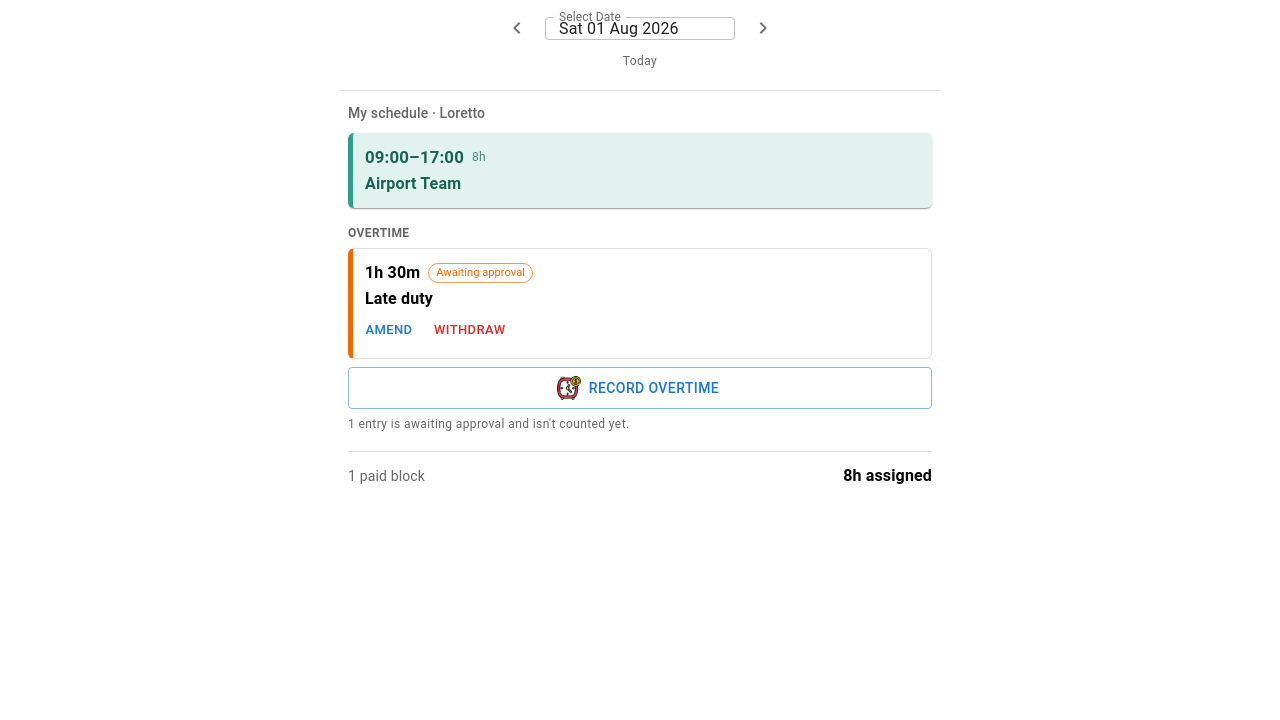
Test: amends an entry that is still awaiting approval
Expected: the text "Late duty" is shown, [365, 289, 433, 308]
Click the button "Amend".
click(389, 330)  # box [357, 315, 421, 346]
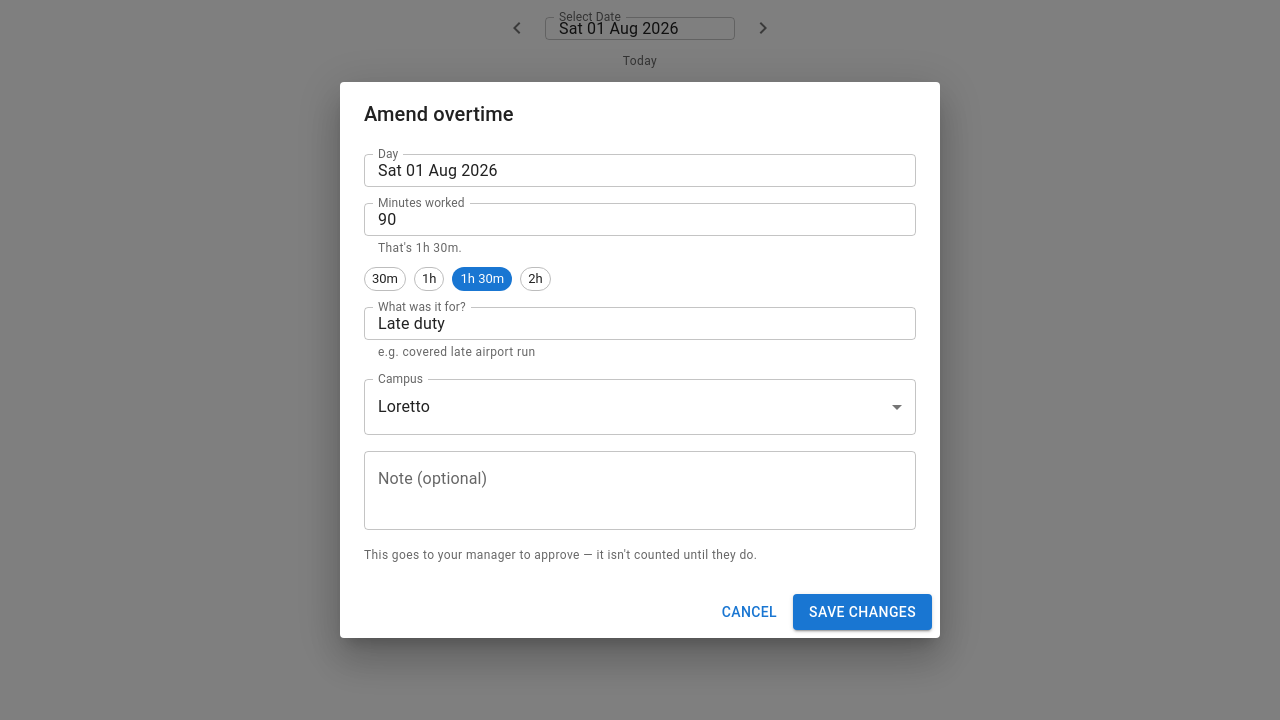
Expected: the heading "Amend overtime" is shown, [364, 102, 514, 126]
Expected: the number field labelled "Minutes worked" holds "90"
Clear the number field labelled "Minutes worked" at [640, 219], box [364, 203, 916, 236]
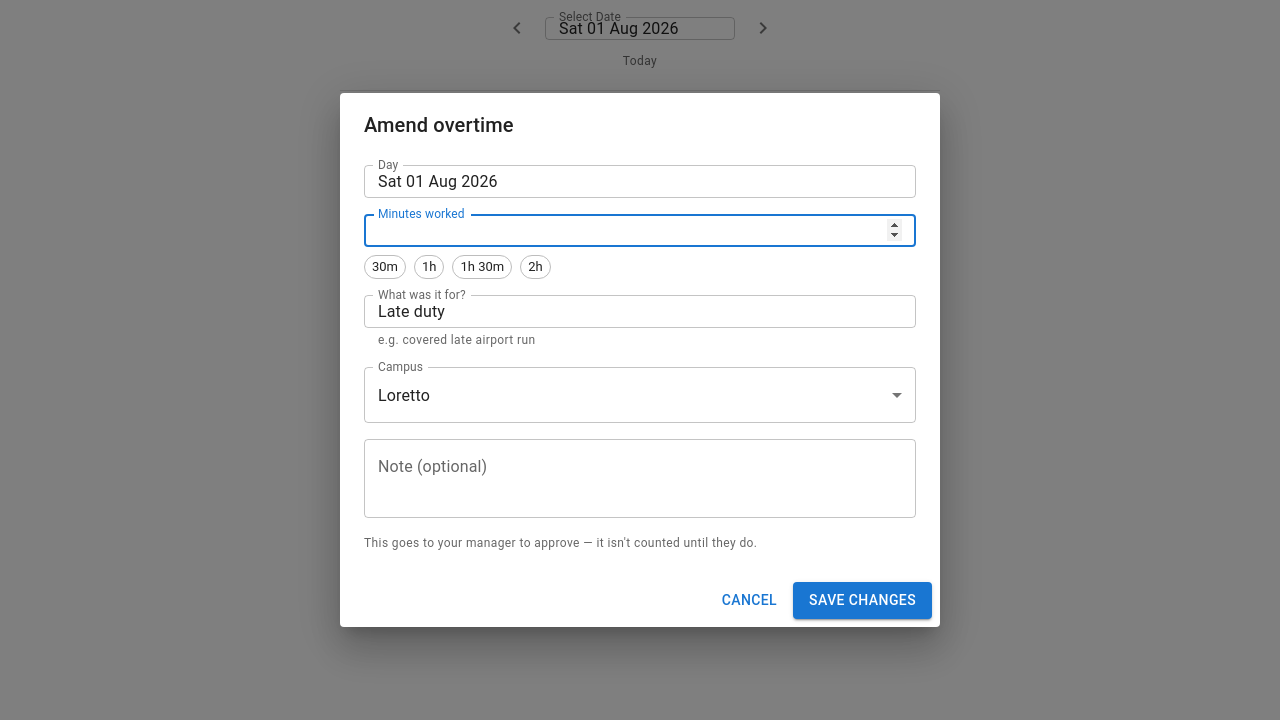
Type "120" into the number field labelled "Minutes worked".
click(640, 231); type("120")  # box [364, 214, 916, 247]
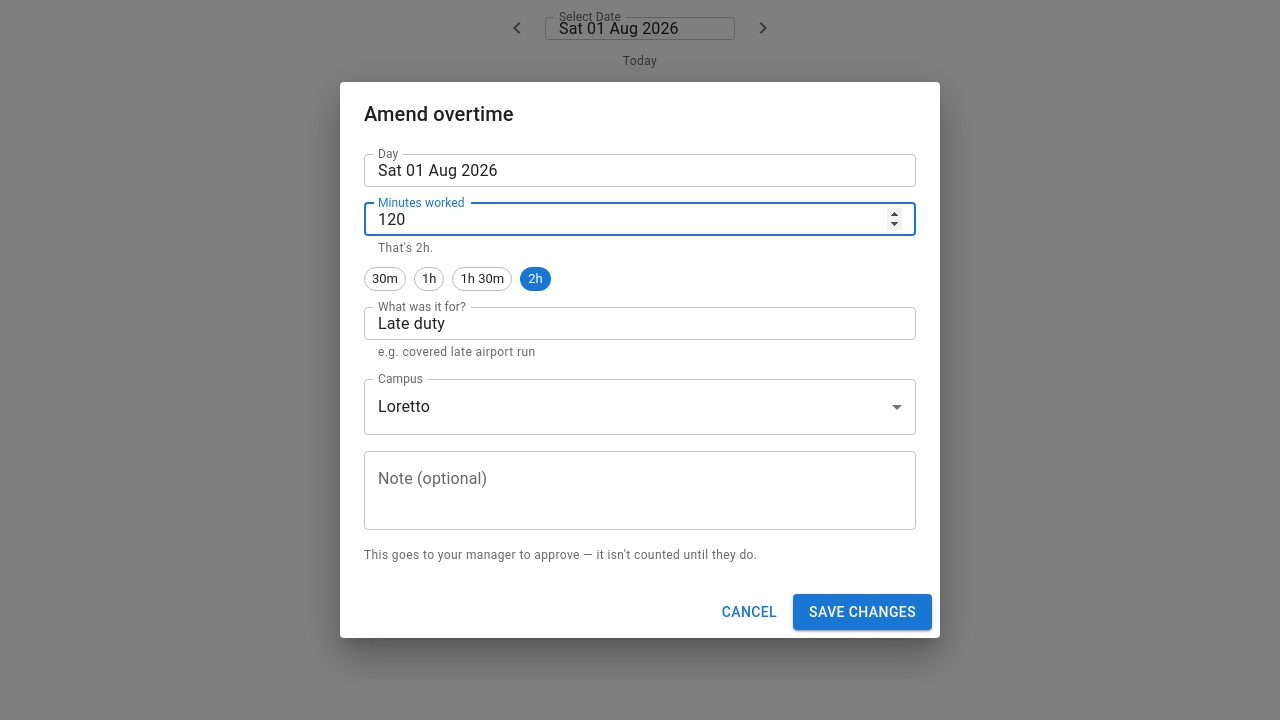
Click the button "Save changes".
click(863, 612)  # box [793, 594, 932, 630]
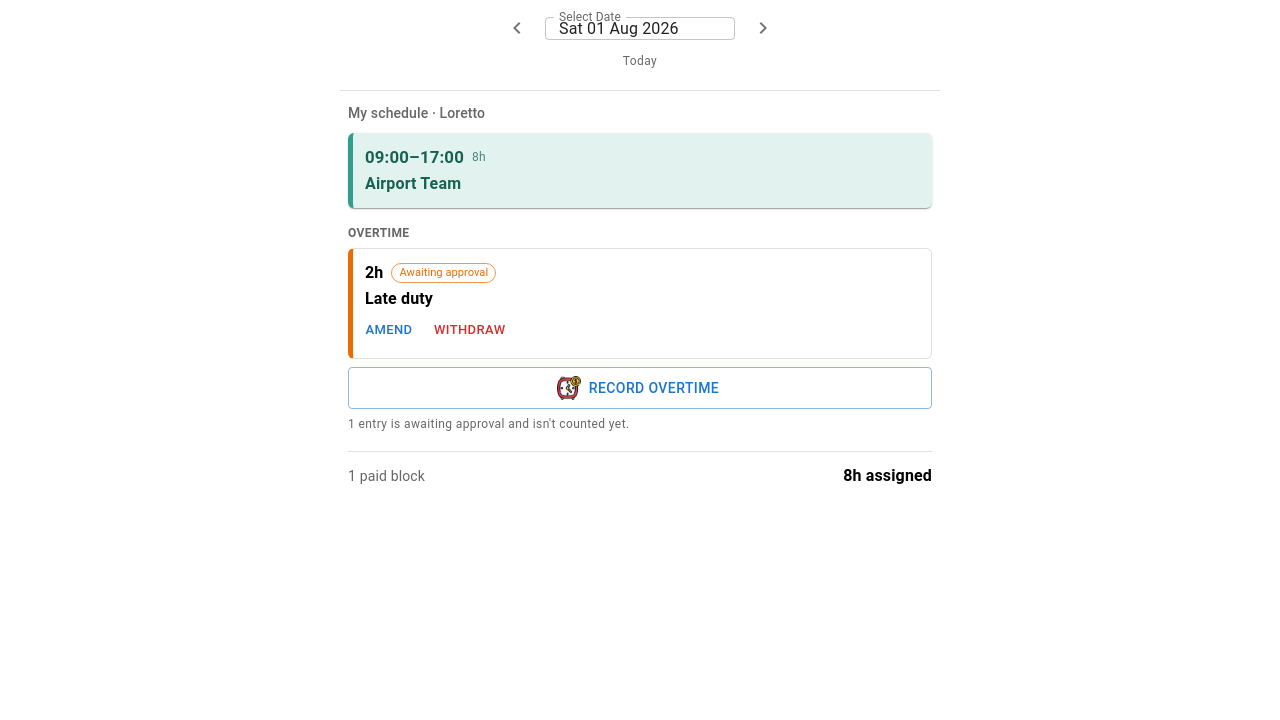
Expected: the text "2h" is shown, [365, 261, 384, 285]
